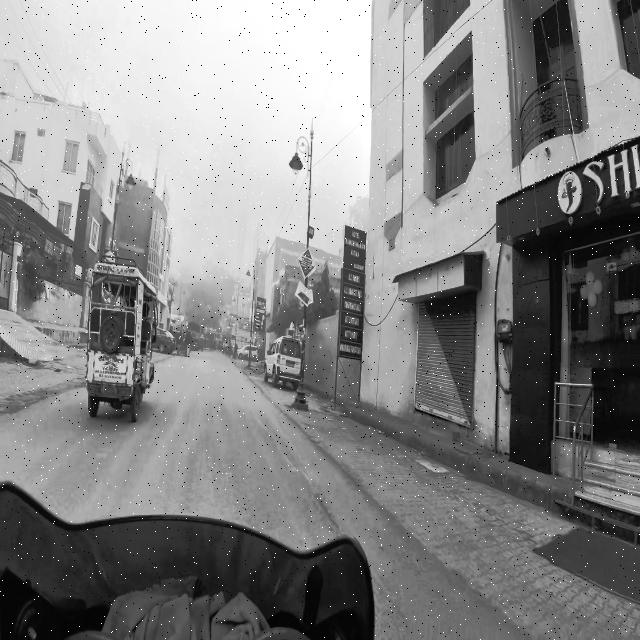Toto: (80, 243, 163, 438)
